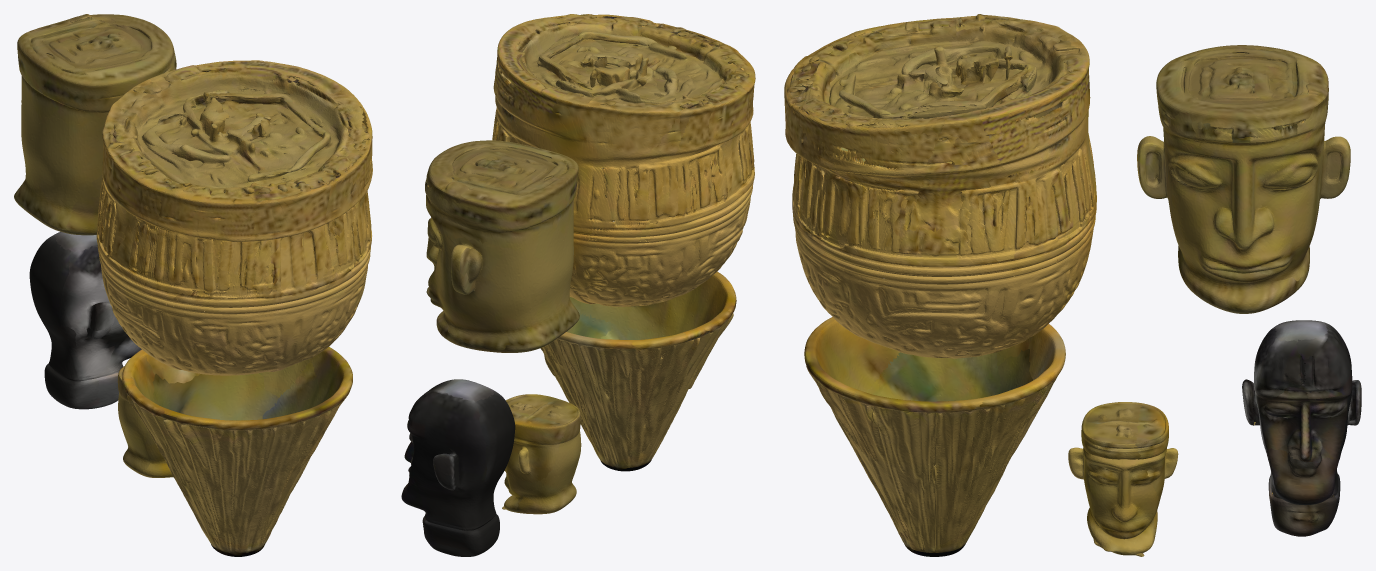
Rendered from Tesoro_Kunturhuasi.glb.
3 renders of one model, left to right at view 1: azimuth 30°, elevation 25°; view 2: azimuth 150°, elevation 25°; view 3: azimuth 270°, elevation 25°, orthographic. The views are drawn at different scales.
Parts seen in each view (by area): view 1: tripo_node_f87a7175-19d5-4fa2-a849-1de9a05c9e11; view 2: tripo_node_f87a7175-19d5-4fa2-a849-1de9a05c9e11; view 3: tripo_node_f87a7175-19d5-4fa2-a849-1de9a05c9e11.
Part boxes in pixels (x1=…): tripo_node_f87a7175-19d5-4fa2-a849-1de9a05c9e11: x1=14, y1=14, x2=372, y2=556; tripo_node_f87a7175-19d5-4fa2-a849-1de9a05c9e11: x1=401, y1=14, x2=755, y2=556; tripo_node_f87a7175-19d5-4fa2-a849-1de9a05c9e11: x1=784, y1=14, x2=1361, y2=556.
Bounding box in the file's own units: 0.5383 × 0.9454 × 0.9999.
Materials: 1 (1 with a texture image).
